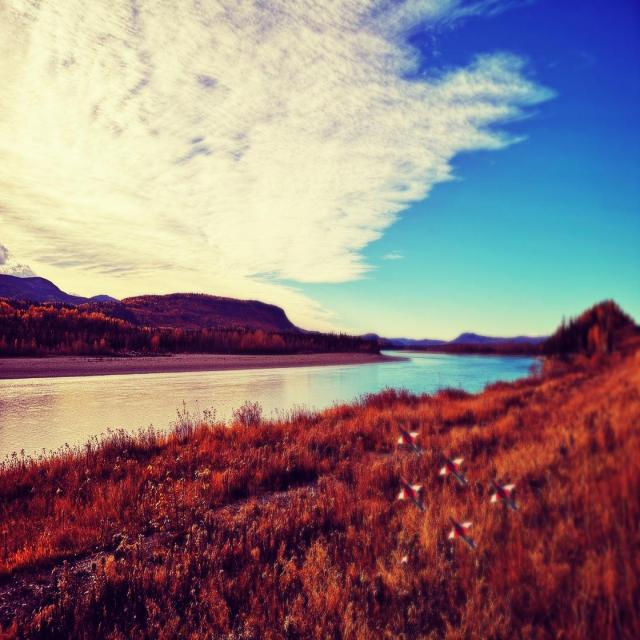airplane: (396, 475, 425, 512), (438, 452, 468, 487), (446, 516, 476, 550), (489, 477, 518, 511), (396, 422, 422, 457)
